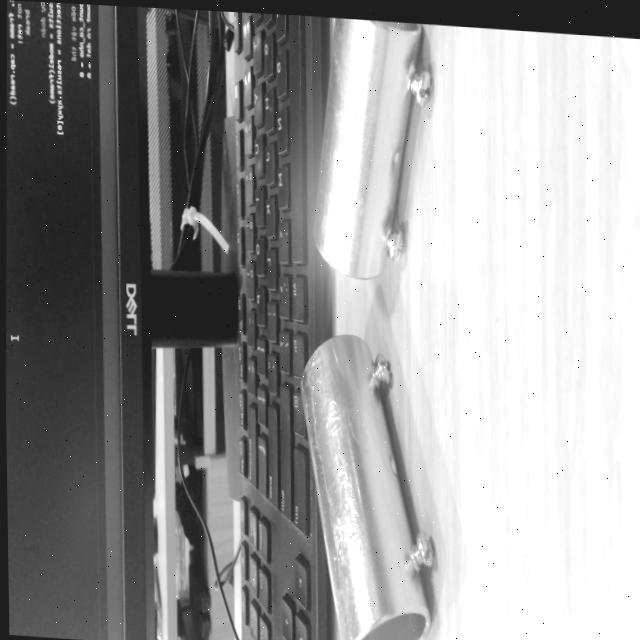Co_Lon: (281, 324, 450, 640)
Co_Nho: (311, 17, 435, 282)
